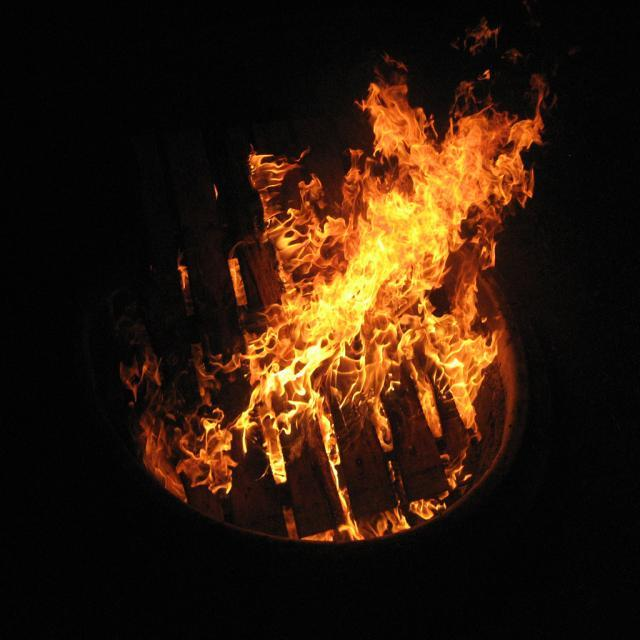Fire: (372, 120, 508, 270)
